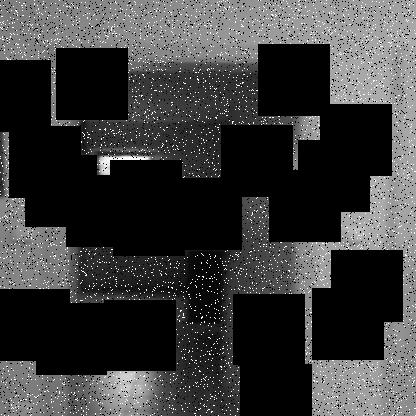Porte: (44, 39, 328, 415)
